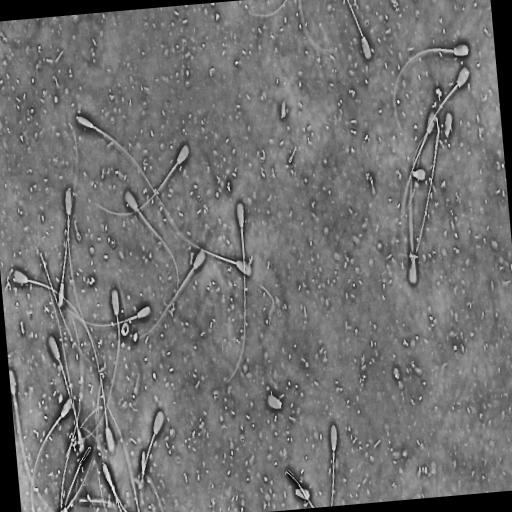coiled-tail: (140, 433, 155, 477)
dirt-particles: (120, 321, 130, 338)
loose-head: (264, 390, 284, 411), (443, 110, 454, 139), (294, 486, 311, 502), (411, 167, 427, 183)
loose-tail: (412, 114, 442, 262)
normal: (73, 110, 179, 229), (404, 62, 472, 212), (90, 138, 193, 219), (73, 283, 122, 444), (64, 185, 105, 375), (391, 40, 472, 136), (29, 395, 74, 512), (46, 333, 81, 474), (223, 198, 248, 388), (400, 106, 439, 224), (176, 227, 254, 281), (53, 288, 152, 330), (10, 266, 84, 320), (137, 408, 165, 492), (62, 443, 93, 512), (345, 0, 373, 64), (328, 420, 339, 506)
